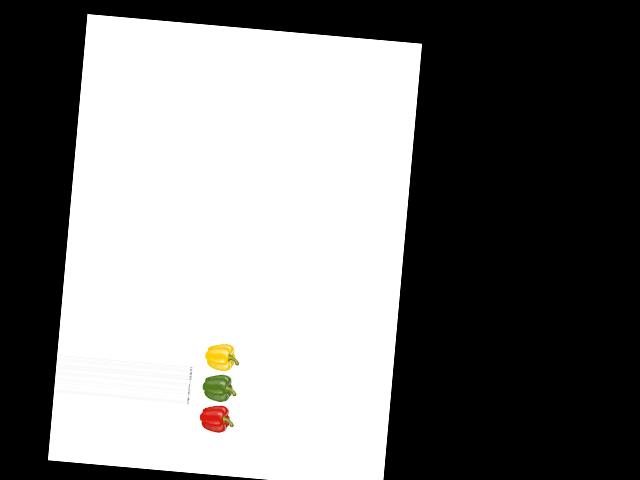bell_pepper: (201, 340, 240, 374)
